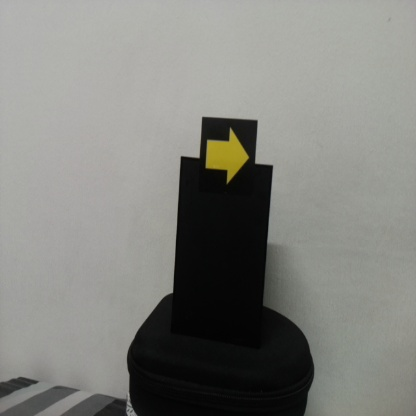id_3: (202, 117, 257, 196)
